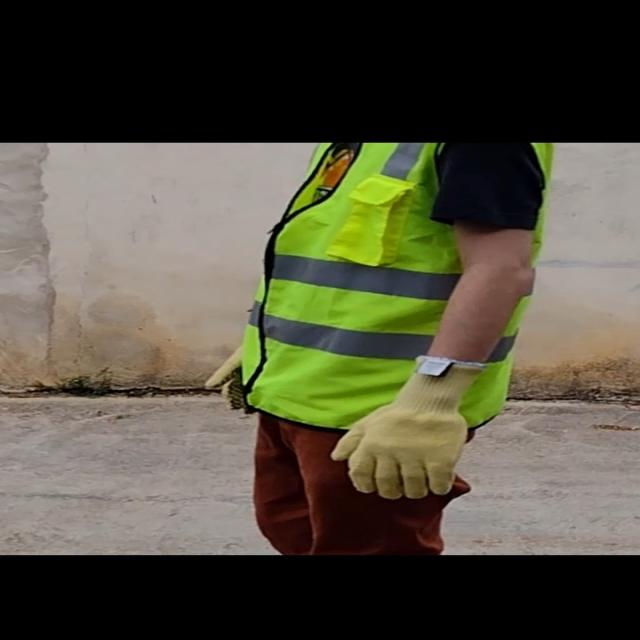glove: (324, 358, 498, 498)
pants: (243, 420, 478, 552)
vest: (237, 142, 557, 420)
